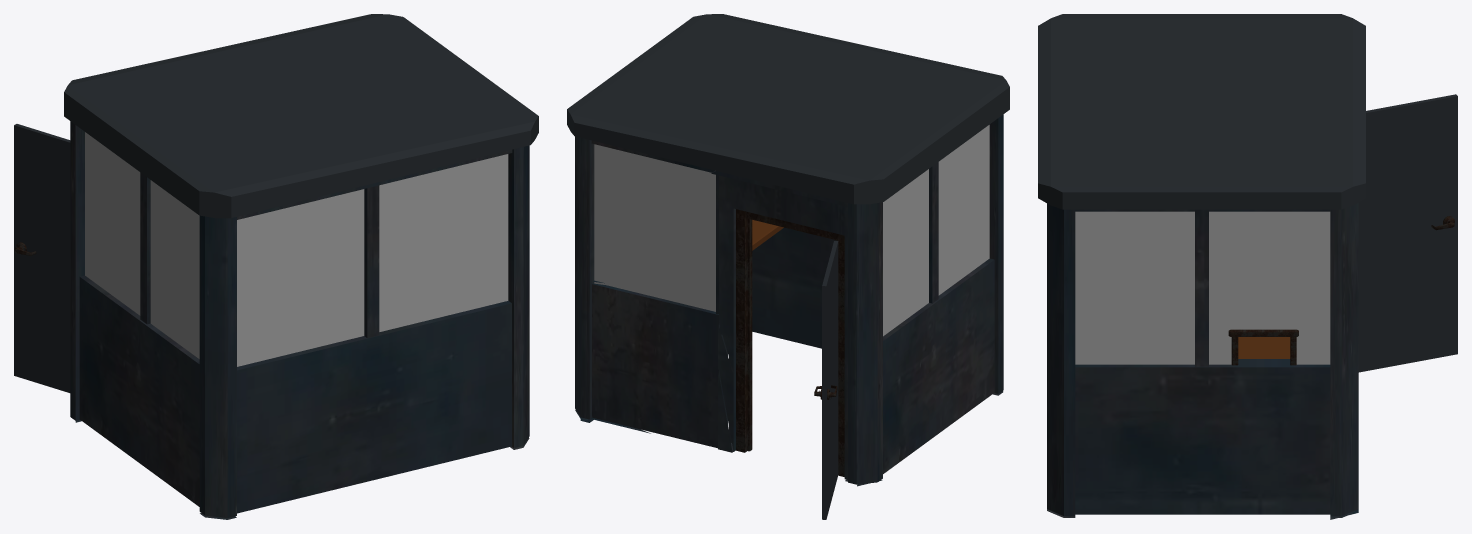
The model's file is security-booth.zfix-v14.lod0.glb.
3 renders of one model, left to right at view 1: azimuth 30°, elevation 25°; view 2: azimuth 150°, elevation 25°; view 3: azimuth 270°, elevation 25°, orthographic. The views are drawn at different scales.
Parts seen in each view (by area): view 1: Object_5, Object_8; view 2: Object_5, Object_8, Object_4; view 3: Object_5, Object_8, Object_4.
Part boxes in pixels (x1=…): Object_5: x1=14, y1=14, x2=538, y2=392; Object_8: x1=70, y1=121, x2=529, y2=519; Object_5: x1=567, y1=14, x2=1009, y2=519; Object_8: x1=575, y1=114, x2=1003, y2=486; Object_4: x1=736, y1=209, x2=844, y2=476; Object_5: x1=1038, y1=14, x2=1457, y2=372; Object_8: x1=1047, y1=202, x2=1358, y2=519; Object_4: x1=1228, y1=216, x2=1454, y2=365.
Bounding box in the file's own units: 2.88 × 2.68 × 3.
Materials: 3 (2 with a texture image).
